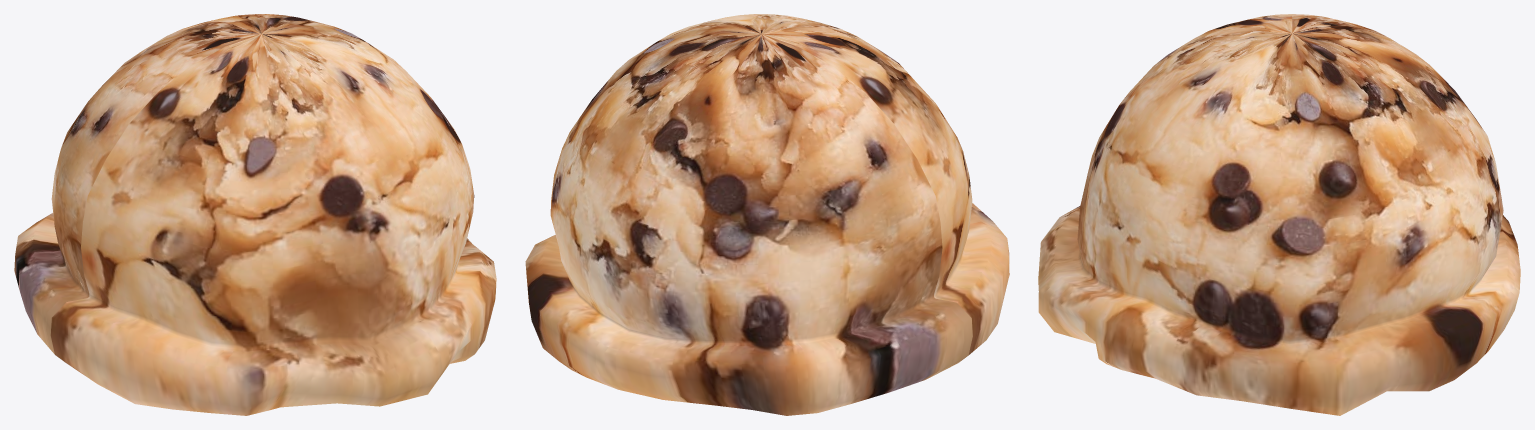
File: scoop-cookies.gltf
3 renders of one model, left to right at view 1: azimuth 30°, elevation 25°; view 2: azimuth 150°, elevation 25°; view 3: azimuth 270°, elevation 25°, orthographic. The views are drawn at different scales.
Parts seen in each view (by area): view 1: Scoop; view 2: Scoop; view 3: Scoop.
Boxes of the visible parts, bbox=[...] form: Scoop: bbox=[14, 14, 496, 415]; Scoop: bbox=[525, 14, 1009, 415]; Scoop: bbox=[1038, 14, 1520, 415].
Bounding box in the file's own units: 1.33 × 0.9831 × 1.38.
1 material, 1 textured.
